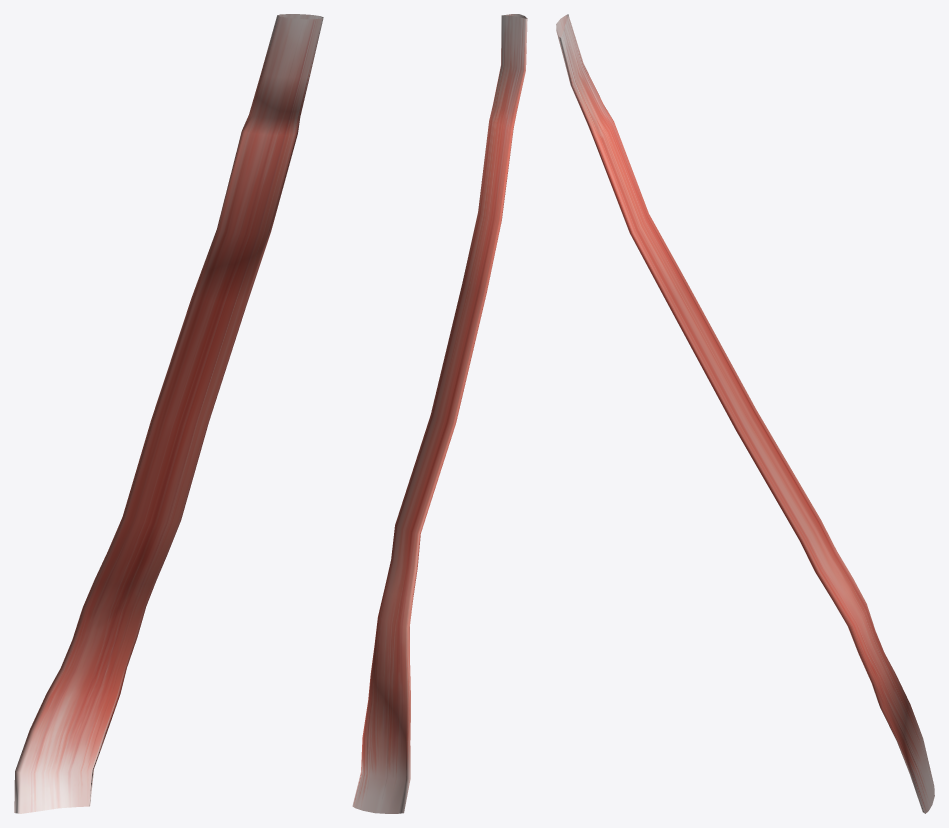
File: Longus_Colli_Muscle_Right.obj
3 views of the same model, side by side, from view 1: azimuth 30°, elevation 25°; view 2: azimuth 150°, elevation 25°; view 3: azimuth 270°, elevation 25° (orthographic). The views are drawn at different scales.
Parts seen in each view (by area): view 1: Sternohyoid_Muscle_Left:Sternohyoid_Muscle_Left1_Mesh Sternohyoi; view 2: Sternohyoid_Muscle_Left:Sternohyoid_Muscle_Left1_Mesh Sternohyoi; view 3: Sternohyoid_Muscle_Left:Sternohyoid_Muscle_Left1_Mesh Sternohyoi.
Boxes of the visible parts, x1,y1,x2,y2 form: Sternohyoid_Muscle_Left:Sternohyoid_Muscle_Left1_Mesh Sternohyoi: (14, 14, 323, 813); Sternohyoid_Muscle_Left:Sternohyoid_Muscle_Left1_Mesh Sternohyoi: (352, 14, 527, 813); Sternohyoid_Muscle_Left:Sternohyoid_Muscle_Left1_Mesh Sternohyoi: (556, 14, 934, 813).
Bounding box in the file's own units: 0.1817 × 1.77 × 0.7699.
